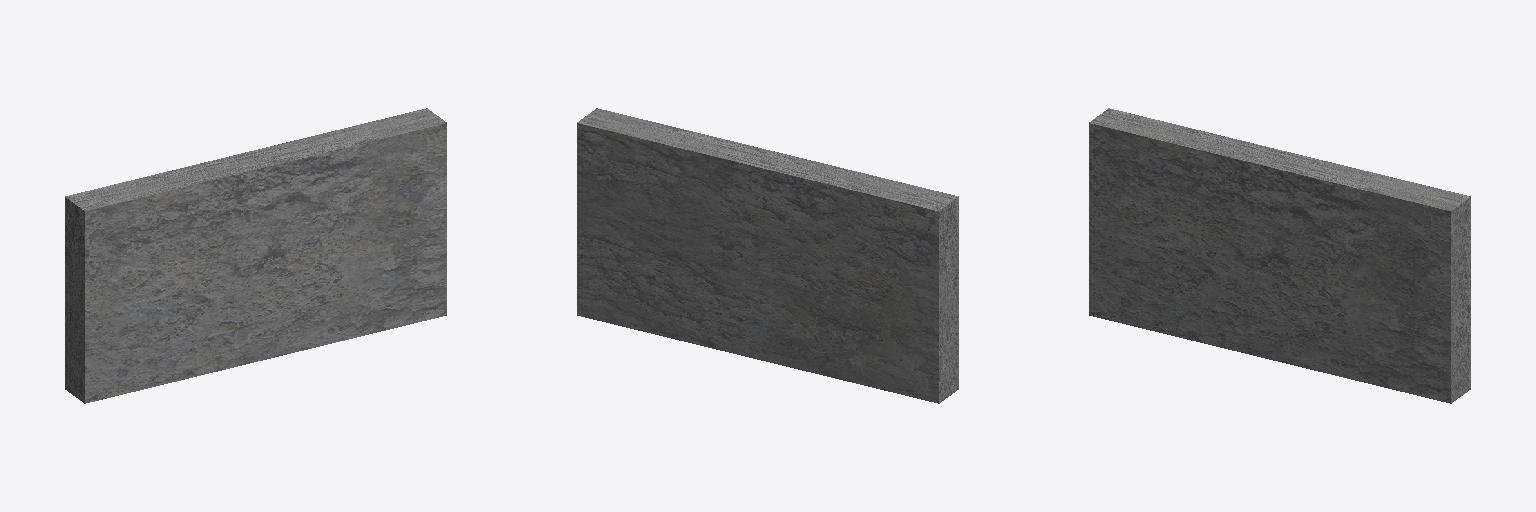
3 views of the same model, side by side, from view 1: azimuth 30°, elevation 25°; view 2: azimuth 150°, elevation 25°; view 3: azimuth 330°, elevation 25° (orthographic).
Parts seen in each view (by area): view 1: pCube1; view 2: pCube1; view 3: pCube1.
Part boxes in pixels (x1,y1,x2,y2): pCube1: (65,108,446,403); pCube1: (577,108,958,403); pCube1: (1089,108,1470,403).
Size of the model in its own units: 17.9 by 9.08 by 1.73.
1 materials, 1 textured.